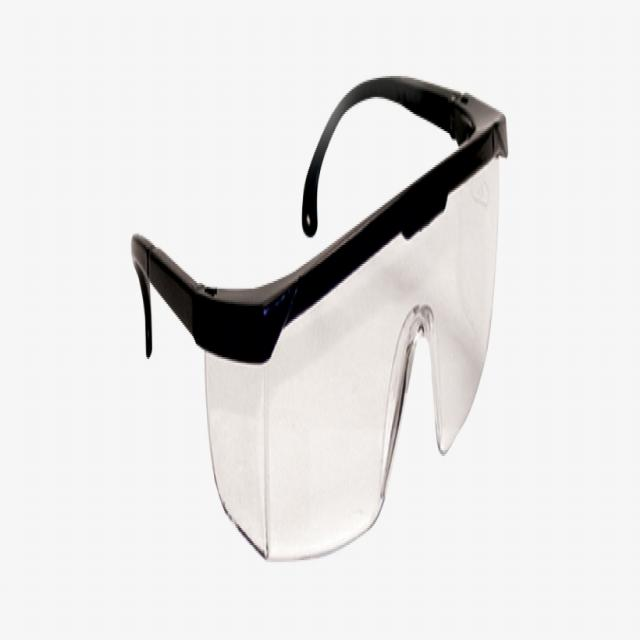Protective Glasses: (105, 9, 574, 640)
